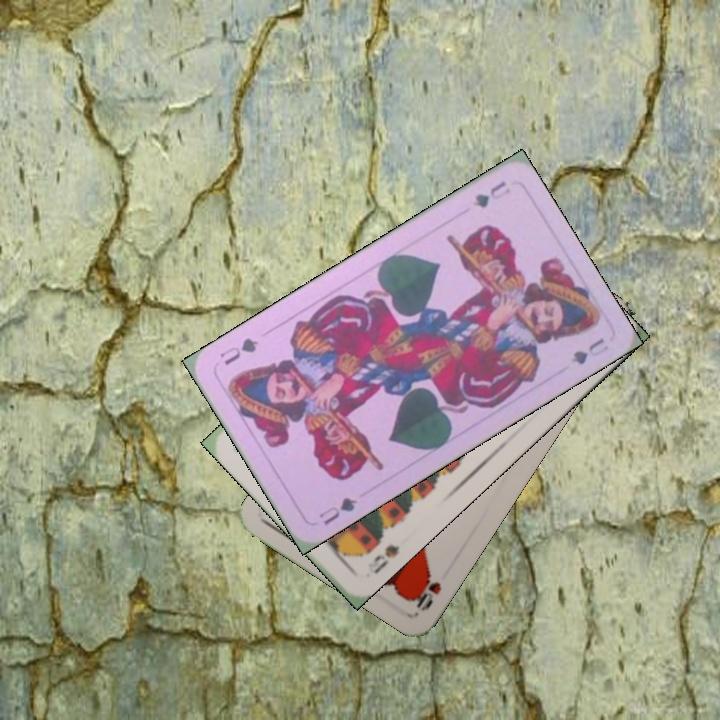GU: (315, 493, 360, 528), (468, 176, 513, 211)
HO: (409, 571, 444, 614)
S8: (364, 540, 402, 577)
